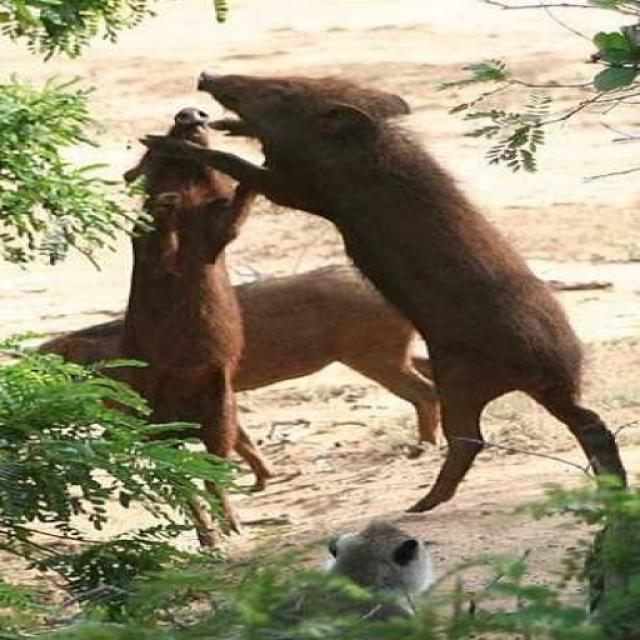pig: (99, 62, 368, 514)
